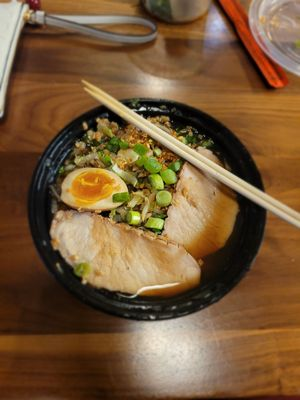pizza: (141, 0, 213, 24)
salad: (74, 78, 300, 231)
sushi: (10, 42, 271, 323), (251, 0, 300, 78)
